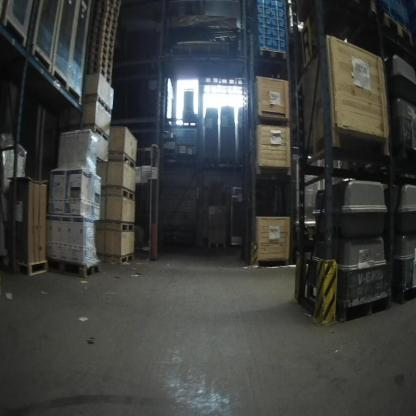pallet: (302, 125, 390, 168), (336, 289, 393, 322), (48, 254, 101, 279), (381, 12, 413, 48), (91, 5, 118, 27), (90, 18, 116, 40), (84, 67, 112, 87), (84, 59, 112, 79), (91, 12, 117, 33), (89, 26, 114, 47), (88, 32, 114, 52), (87, 39, 114, 58), (85, 53, 112, 72), (92, 1, 118, 20), (86, 46, 113, 64), (352, 0, 377, 16), (257, 47, 287, 60), (96, 95, 112, 116), (94, 125, 109, 142), (123, 153, 135, 172), (122, 189, 135, 202), (121, 221, 135, 232), (107, 0, 120, 11), (120, 254, 134, 264), (208, 242, 225, 249), (182, 121, 197, 127), (116, 0, 121, 5)
small_load_carrier: (259, 36, 273, 50), (258, 25, 272, 39), (272, 27, 286, 40), (273, 38, 286, 51), (258, 16, 271, 29), (272, 18, 284, 31), (271, 8, 283, 21), (258, 7, 271, 18), (271, 0, 283, 9), (257, 0, 270, 8)
